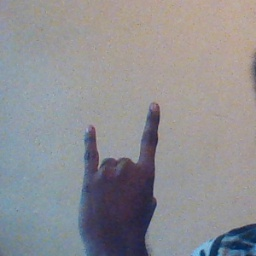V: (75, 99, 166, 240)
